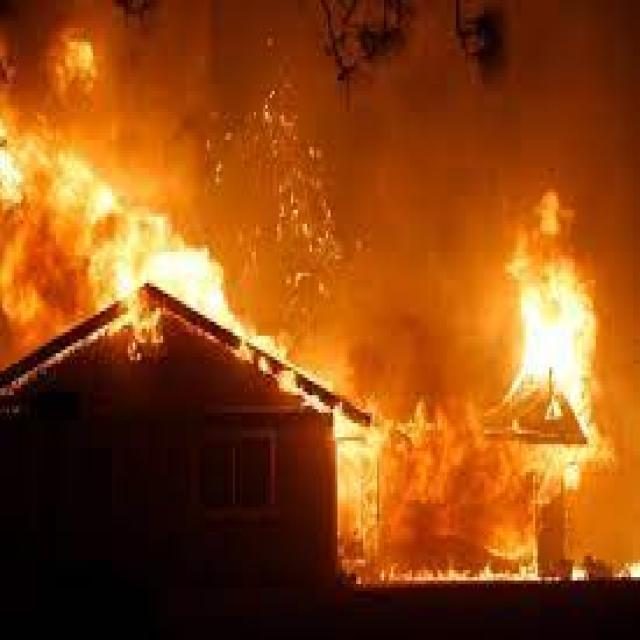Fire: (211, 310, 486, 530), (1, 156, 256, 327), (519, 224, 616, 426)
Smoke: (11, 0, 640, 196)
